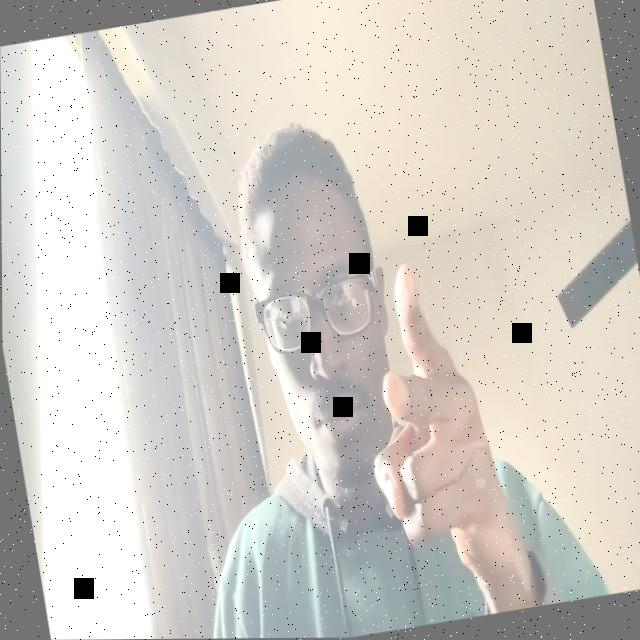Scissors: (341, 253, 524, 595)
